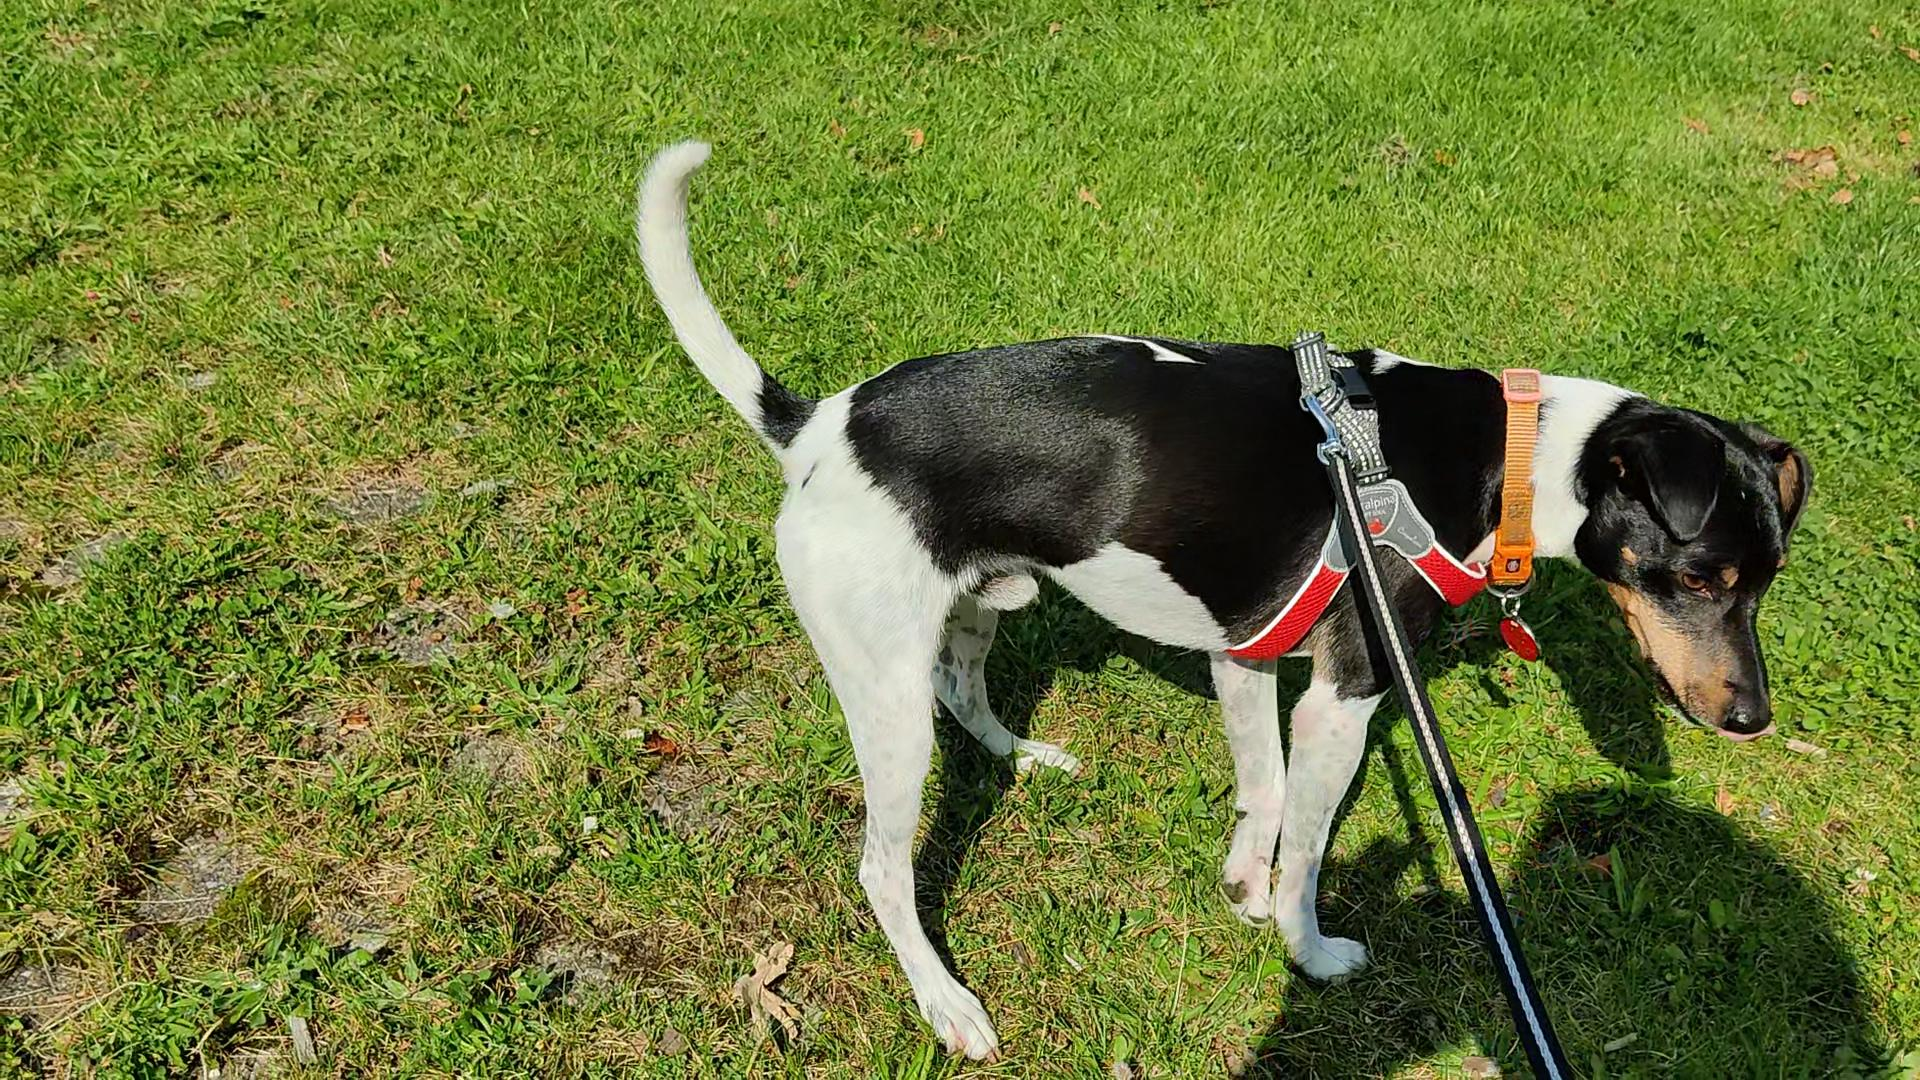Dog: (633, 128, 1820, 1062)
